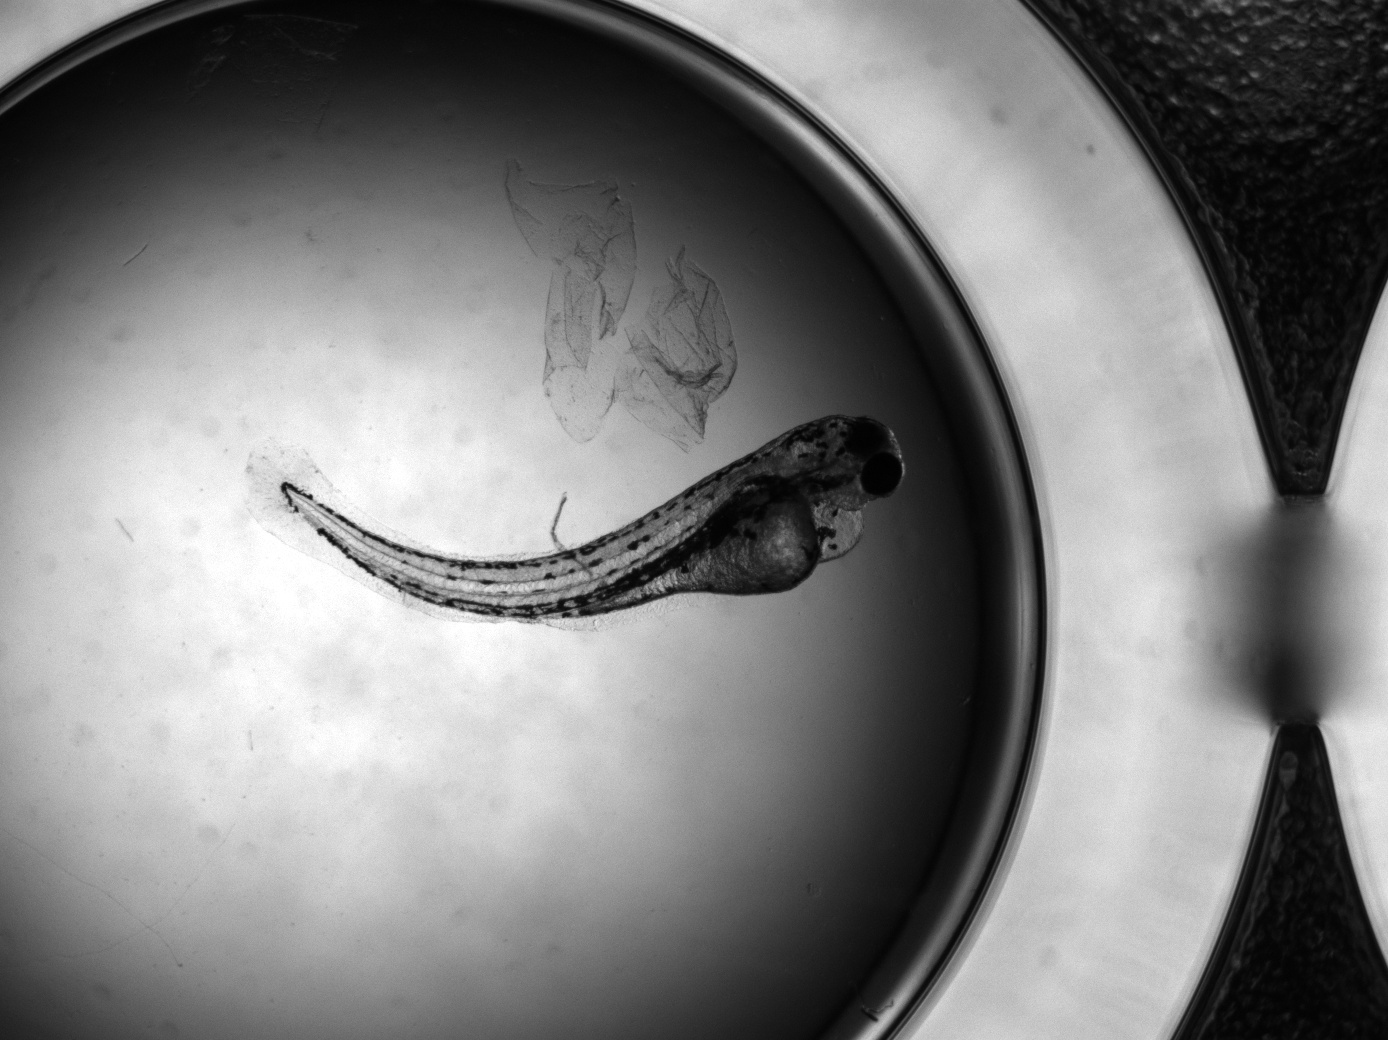debris: (505, 155, 742, 451)
embryo: (281, 415, 905, 626)
eye: (859, 454, 902, 496), (845, 419, 889, 457)
yolksac: (659, 484, 859, 606)
